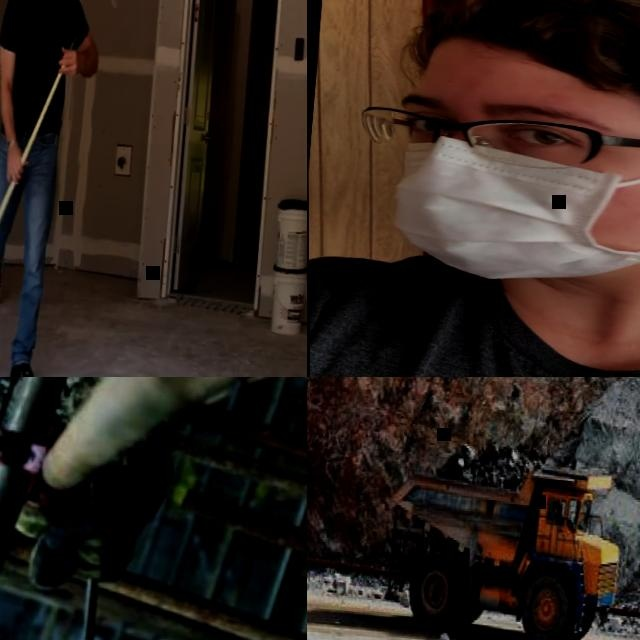Mask: (385, 132, 640, 298)
NO-Hardhat: (408, 0, 640, 124)
NO-Safety Vest: (308, 257, 640, 377), (0, 377, 97, 500), (0, 0, 76, 141)
Person: (307, 0, 640, 377), (0, 377, 196, 605), (0, 0, 113, 377)
machinery: (372, 437, 630, 640)
